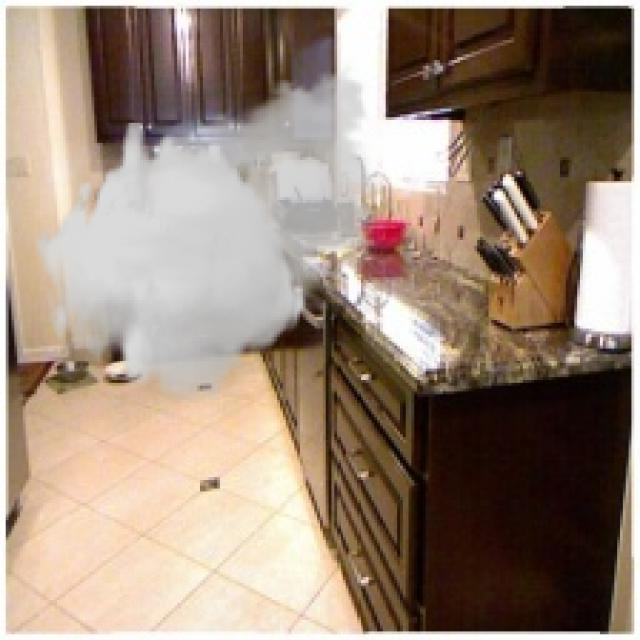smoke: (34, 57, 389, 403)
